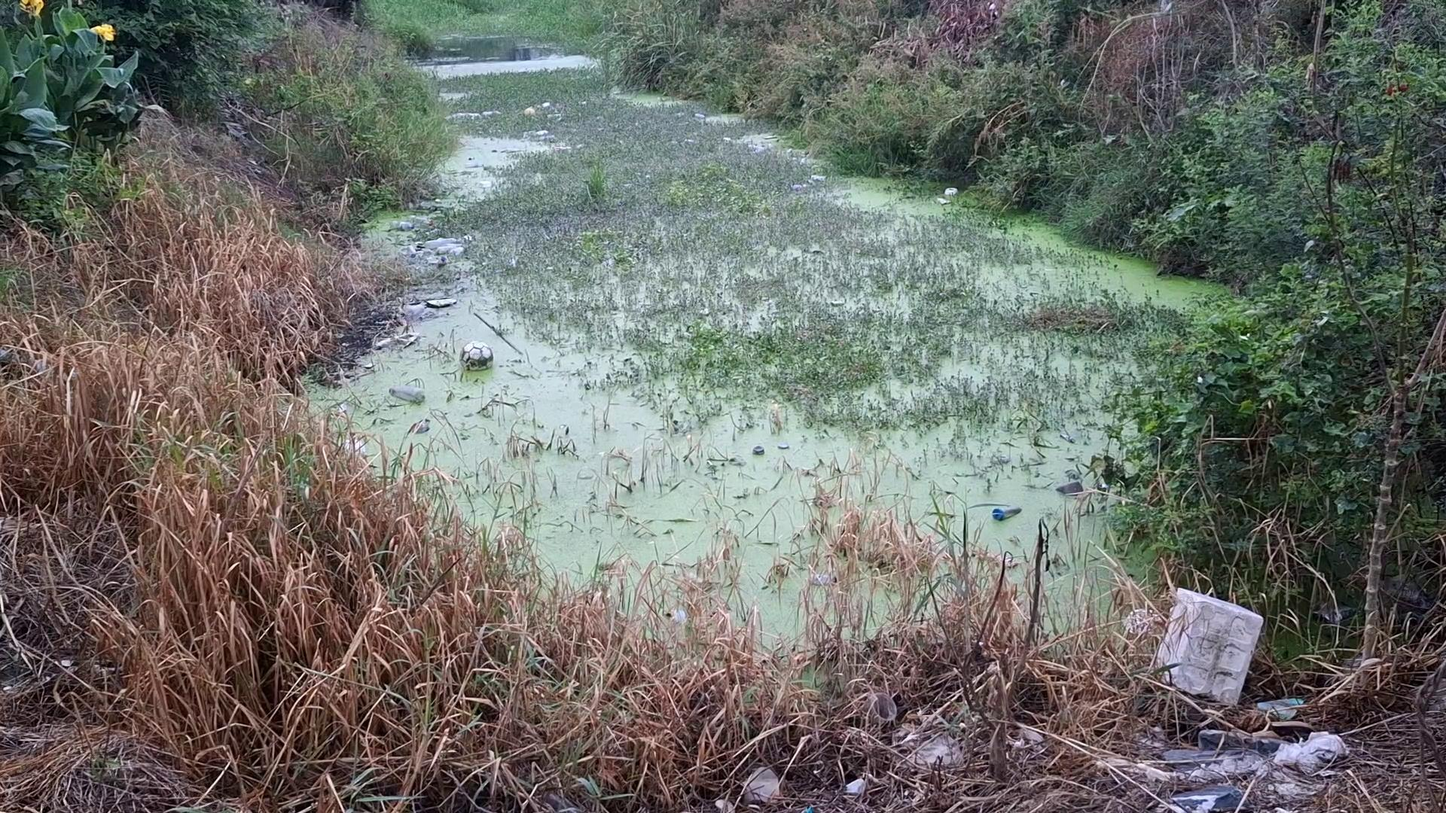ignore: (756, 267, 1195, 433), (511, 198, 879, 364), (451, 63, 756, 230)
trash: (447, 339, 515, 373), (409, 235, 472, 267), (384, 378, 436, 416), (1048, 473, 1097, 504), (418, 293, 473, 315), (748, 439, 795, 462), (928, 180, 967, 207), (984, 502, 1027, 524), (389, 214, 440, 232)
